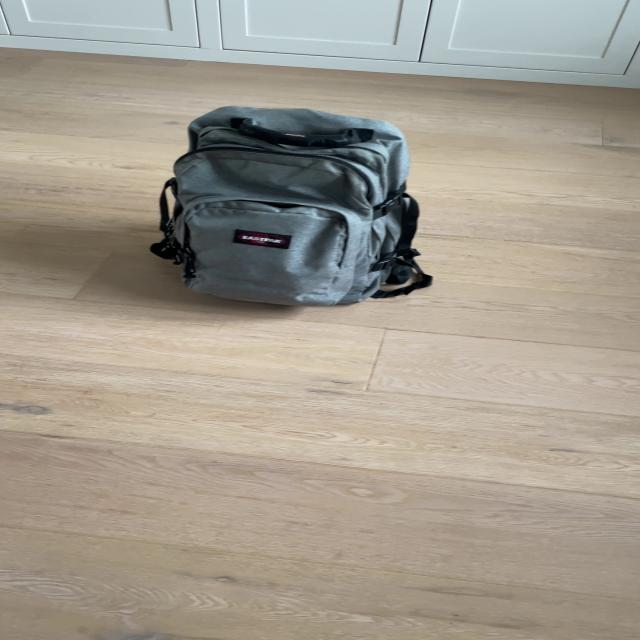backpack: (142, 96, 436, 314)
